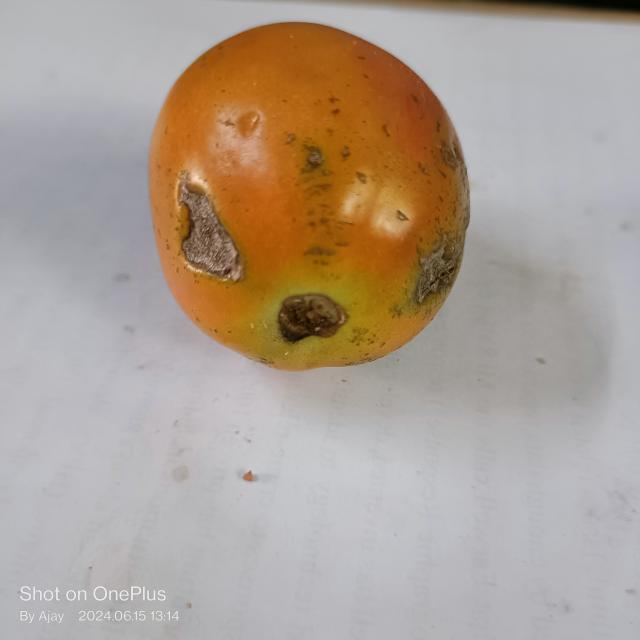Bacterial_Spot: (176, 191, 253, 278), (302, 136, 345, 264), (403, 215, 462, 303)
